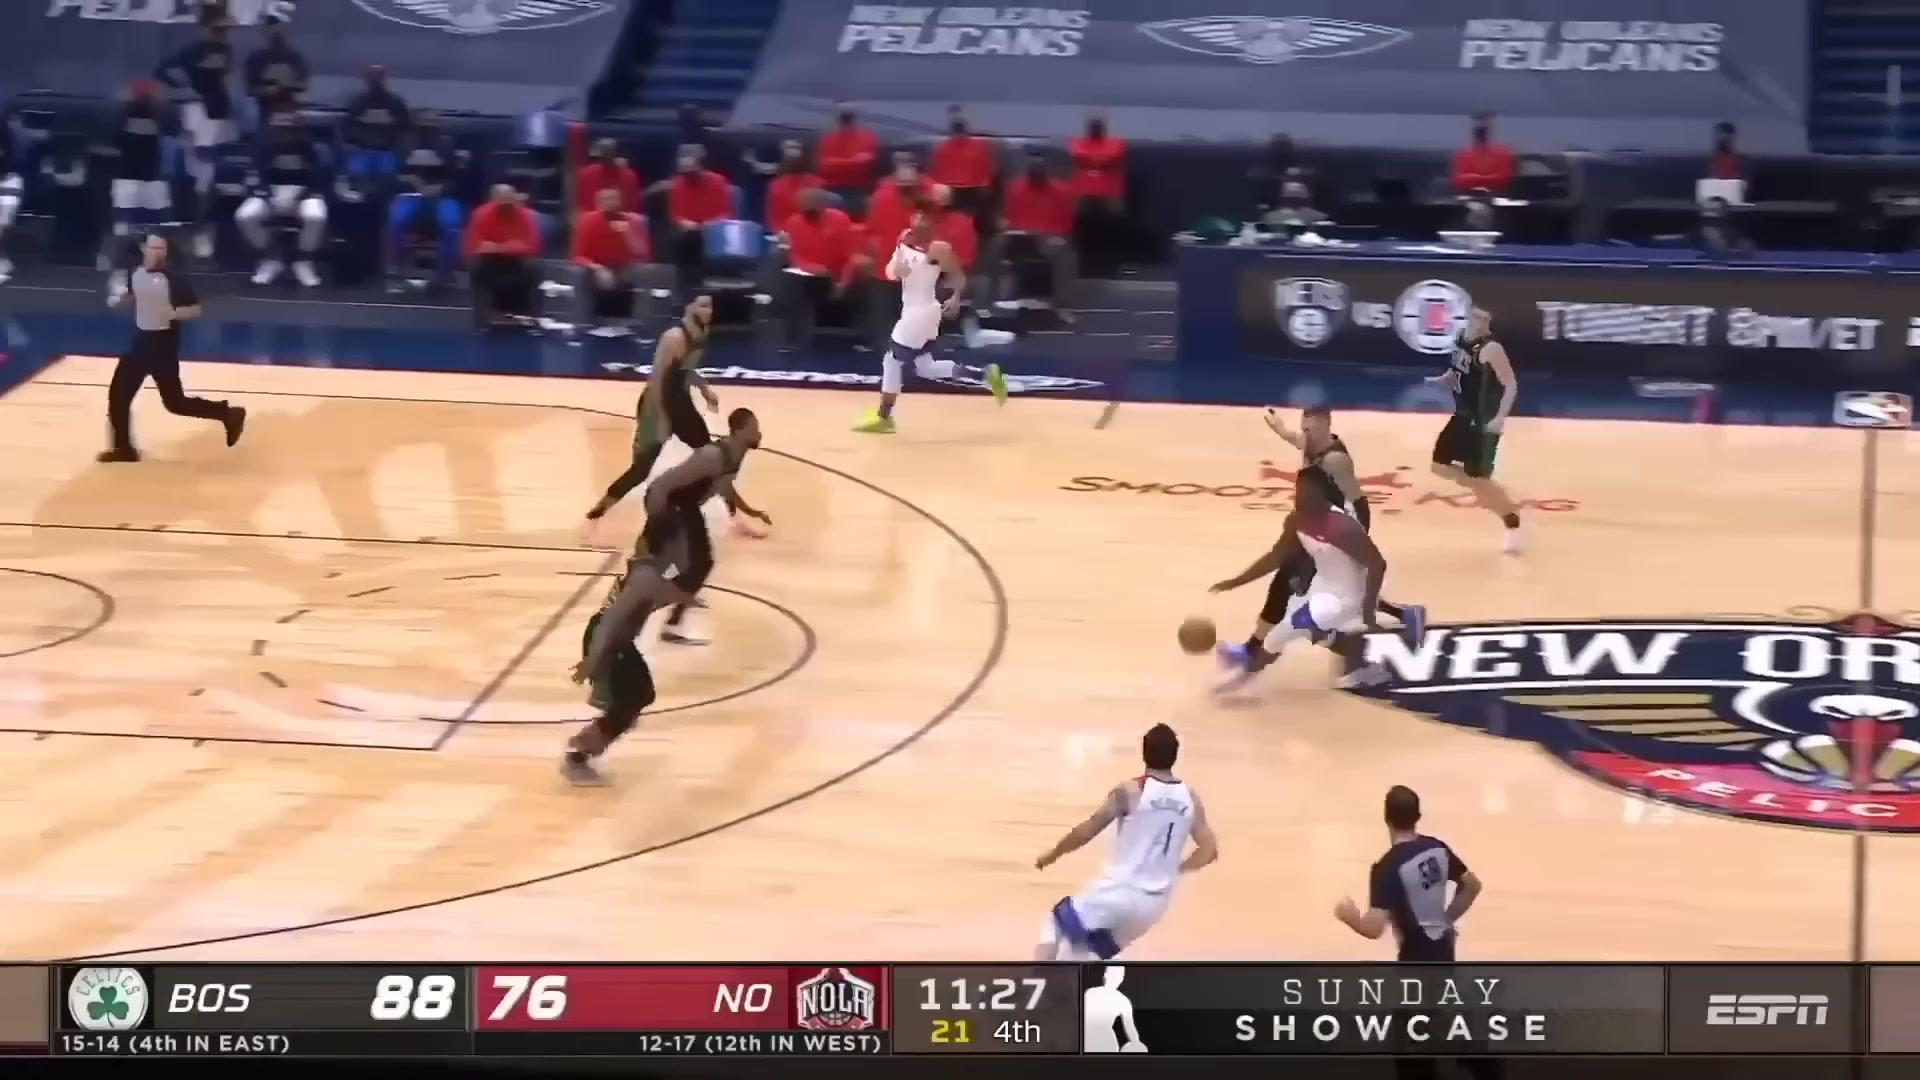no_foul: (1159, 392, 1443, 686)
